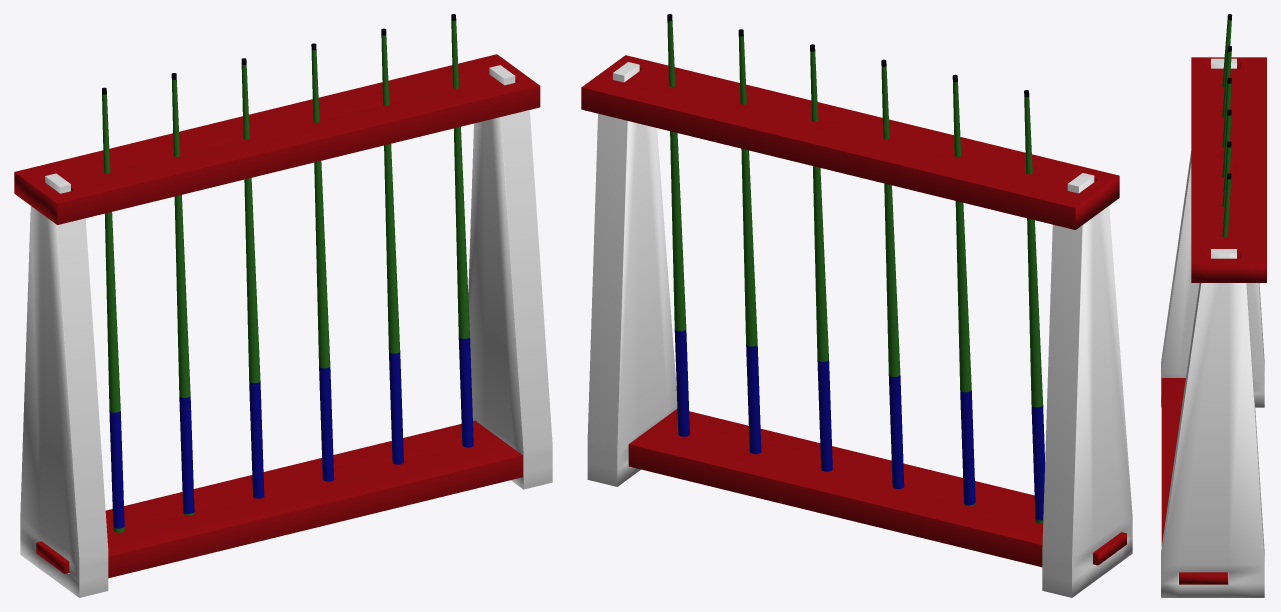
The model's file is PoolCueRack_001.glb.
3 views of the same model, side by side, from view 1: azimuth 30°, elevation 25°; view 2: azimuth 150°, elevation 25°; view 3: azimuth 270°, elevation 25° (orthographic). The views are drawn at different scales.
Visible parts, largest first — view 1: PoolCueRack.001; view 2: PoolCueRack.001; view 3: PoolCueRack.001.
Part boxes in pixels (x1,y1,x2,y2): PoolCueRack.001: [14, 14, 552, 597]; PoolCueRack.001: [581, 14, 1132, 597]; PoolCueRack.001: [1161, 14, 1266, 597].
Bounding box in the file's own units: 2.33 × 2.14 × 0.5038.
